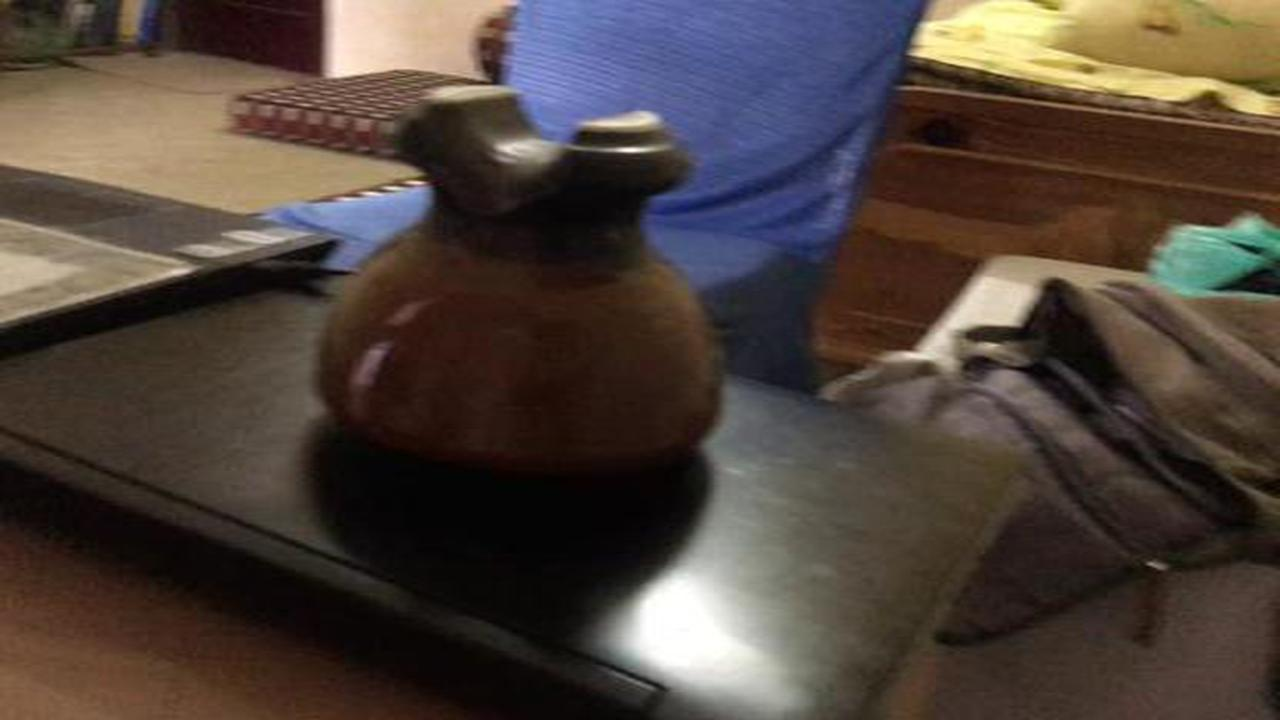insulator_pin: (271, 63, 751, 516)
